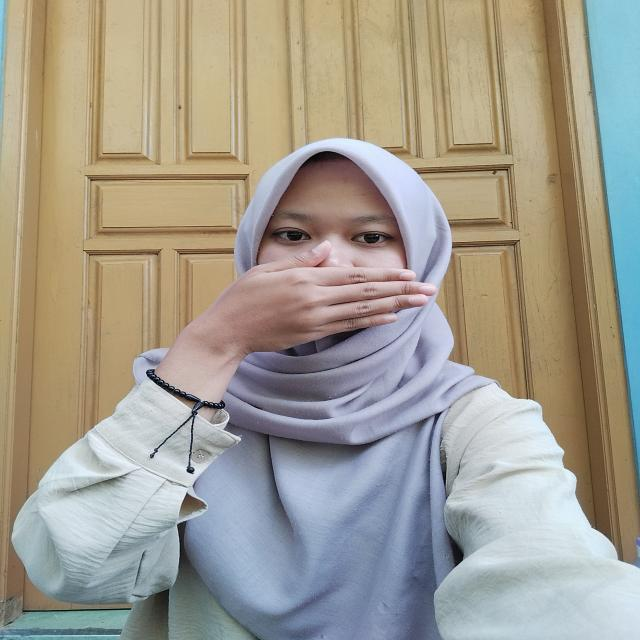buruk: (166, 237, 449, 386)
